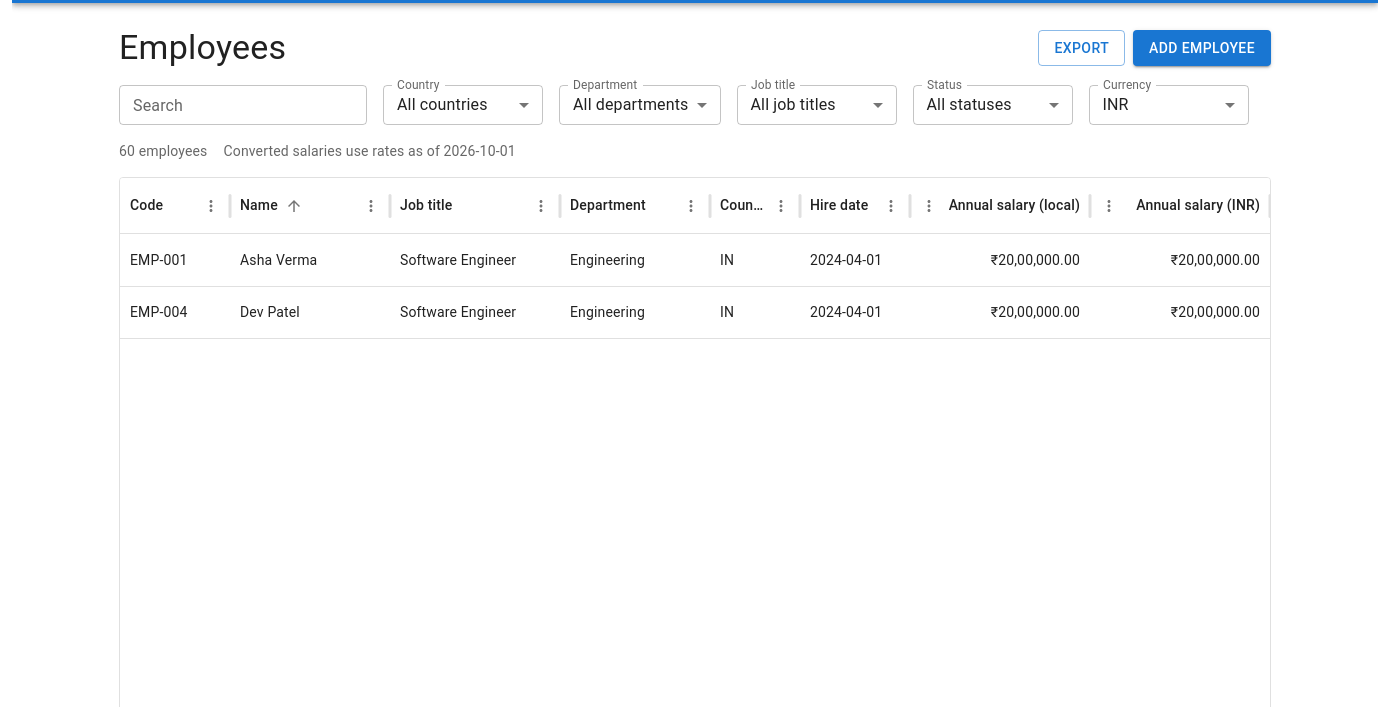
Test: employees list page › filters by country from page 1 and keeps the state in the URL
This screenshot has width=1378, height=707.
Expected: the text "Asha Verma" is shown, [240,252,317,268]
Click the dropdown named "Country".
click(442, 105)  # box [397,96,488,114]
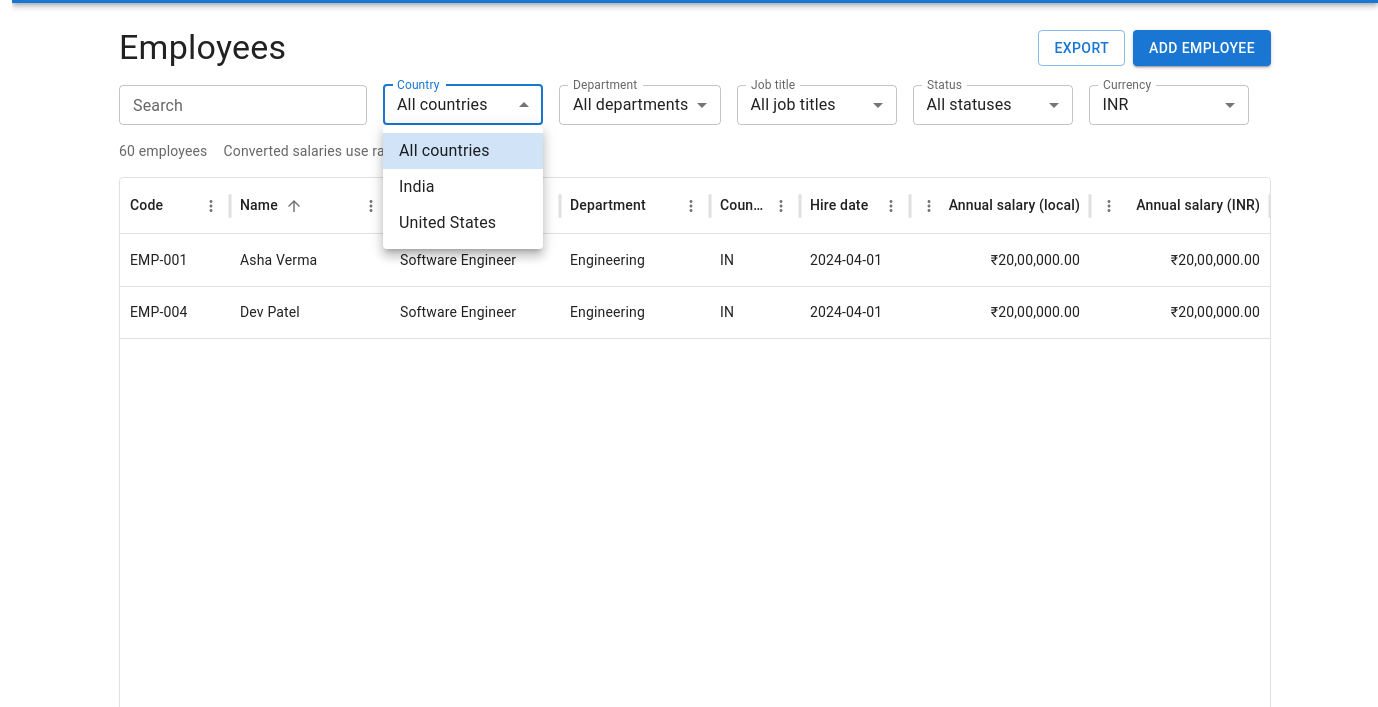
Click the option "India".
click(417, 186)  # box [399,177,435,196]
(page scrolled)
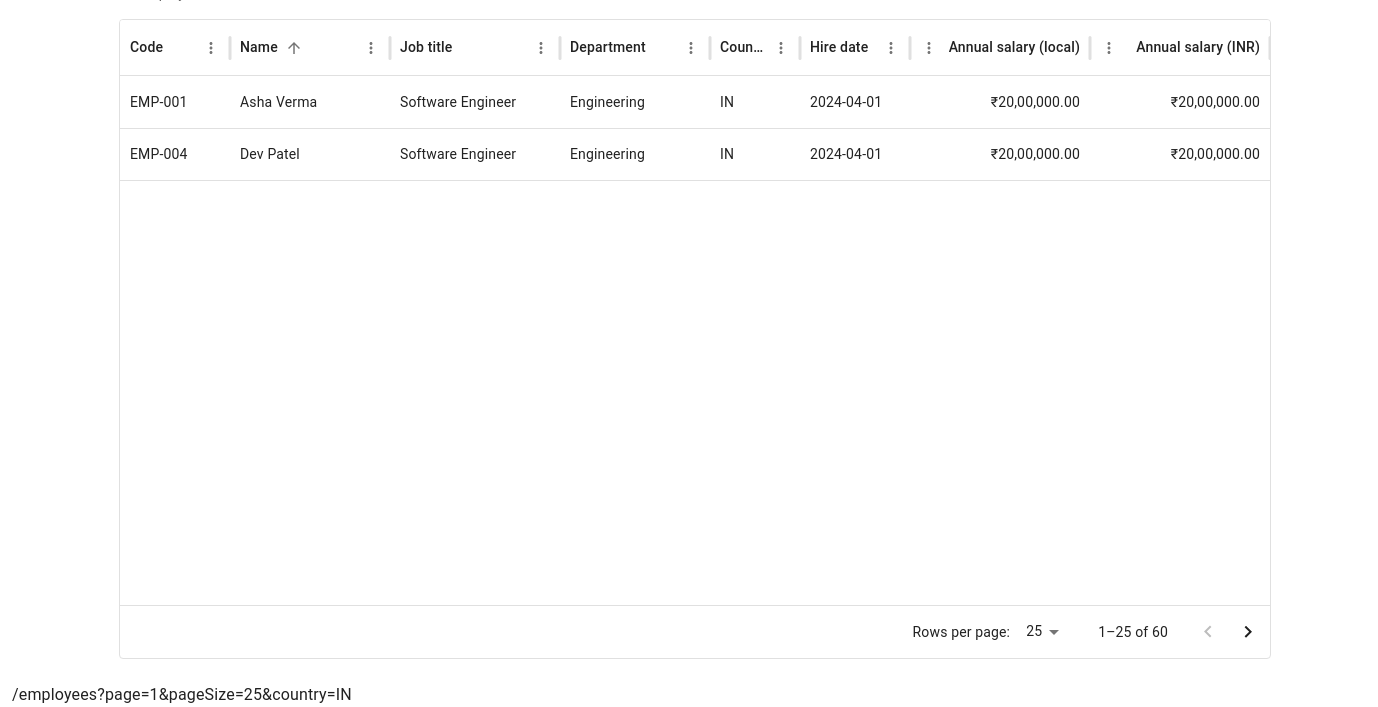
Now the text with test id "location" shows "country=IN", box [12,685,352,704]
